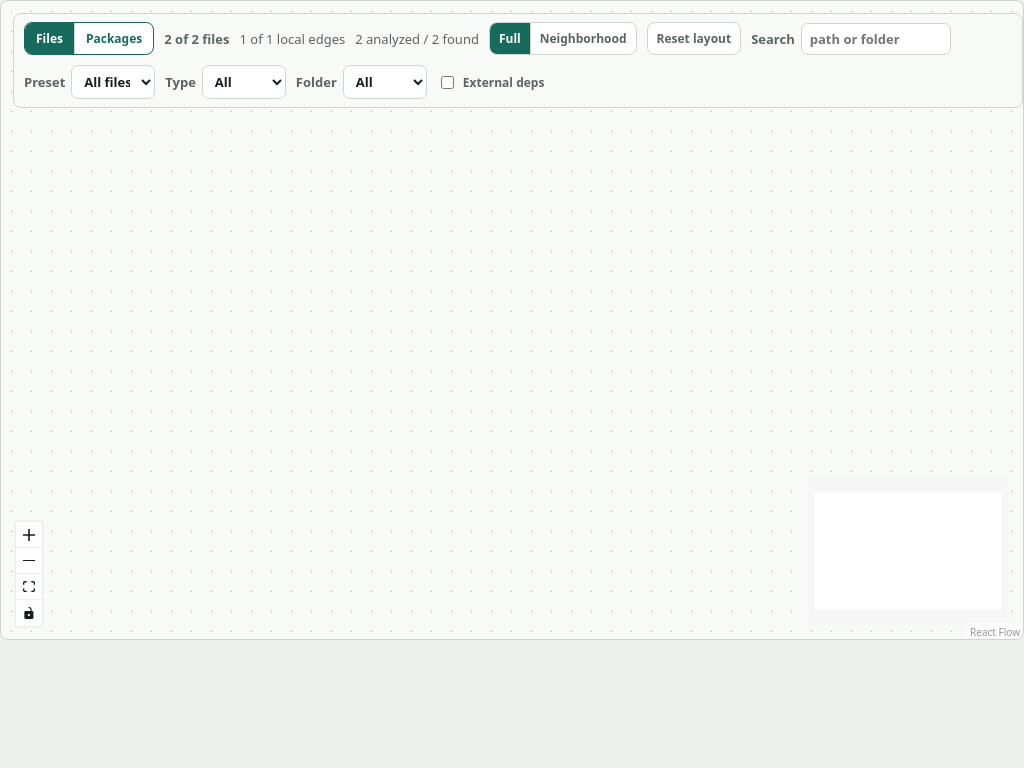
Test: GraphCanvas › switches to the package view
Click the button "Packages": (114, 38) [75,23,153,54]
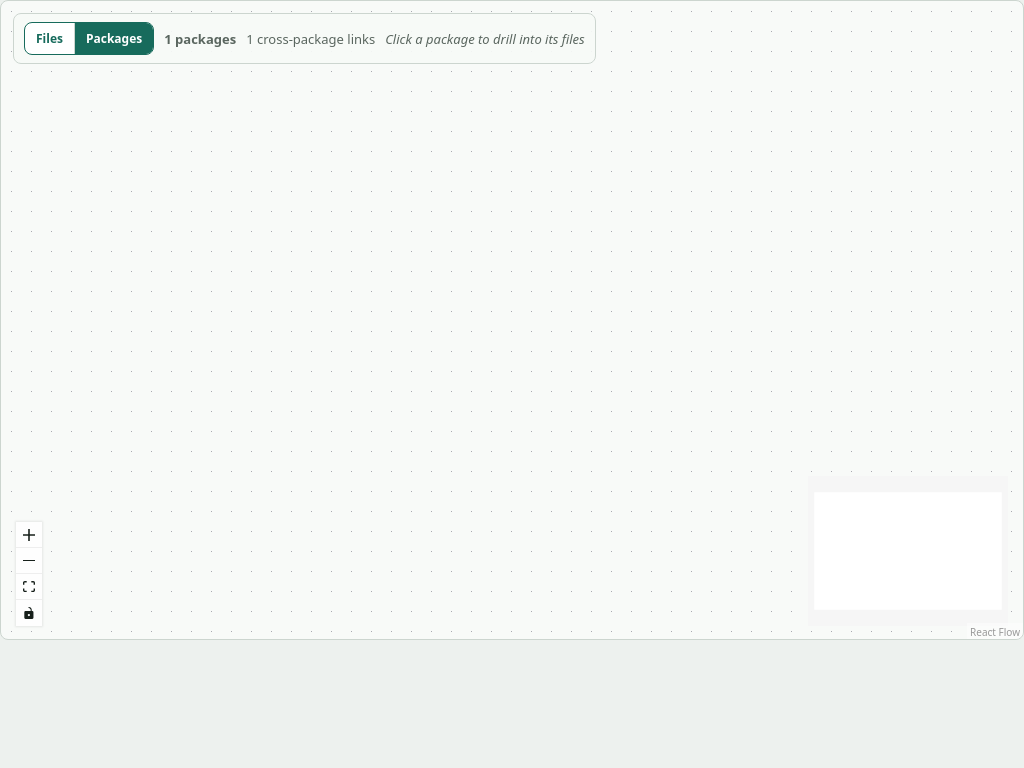
Expected: the text "1 packages" is shown, [164,30,236,48]
Expected: the text "1 cross-package links" is shown, [246,30,375,48]
